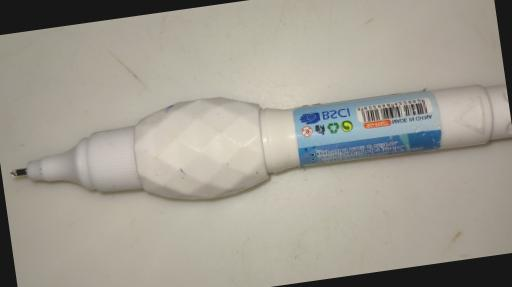Correction pen: (0, 55, 512, 232)
